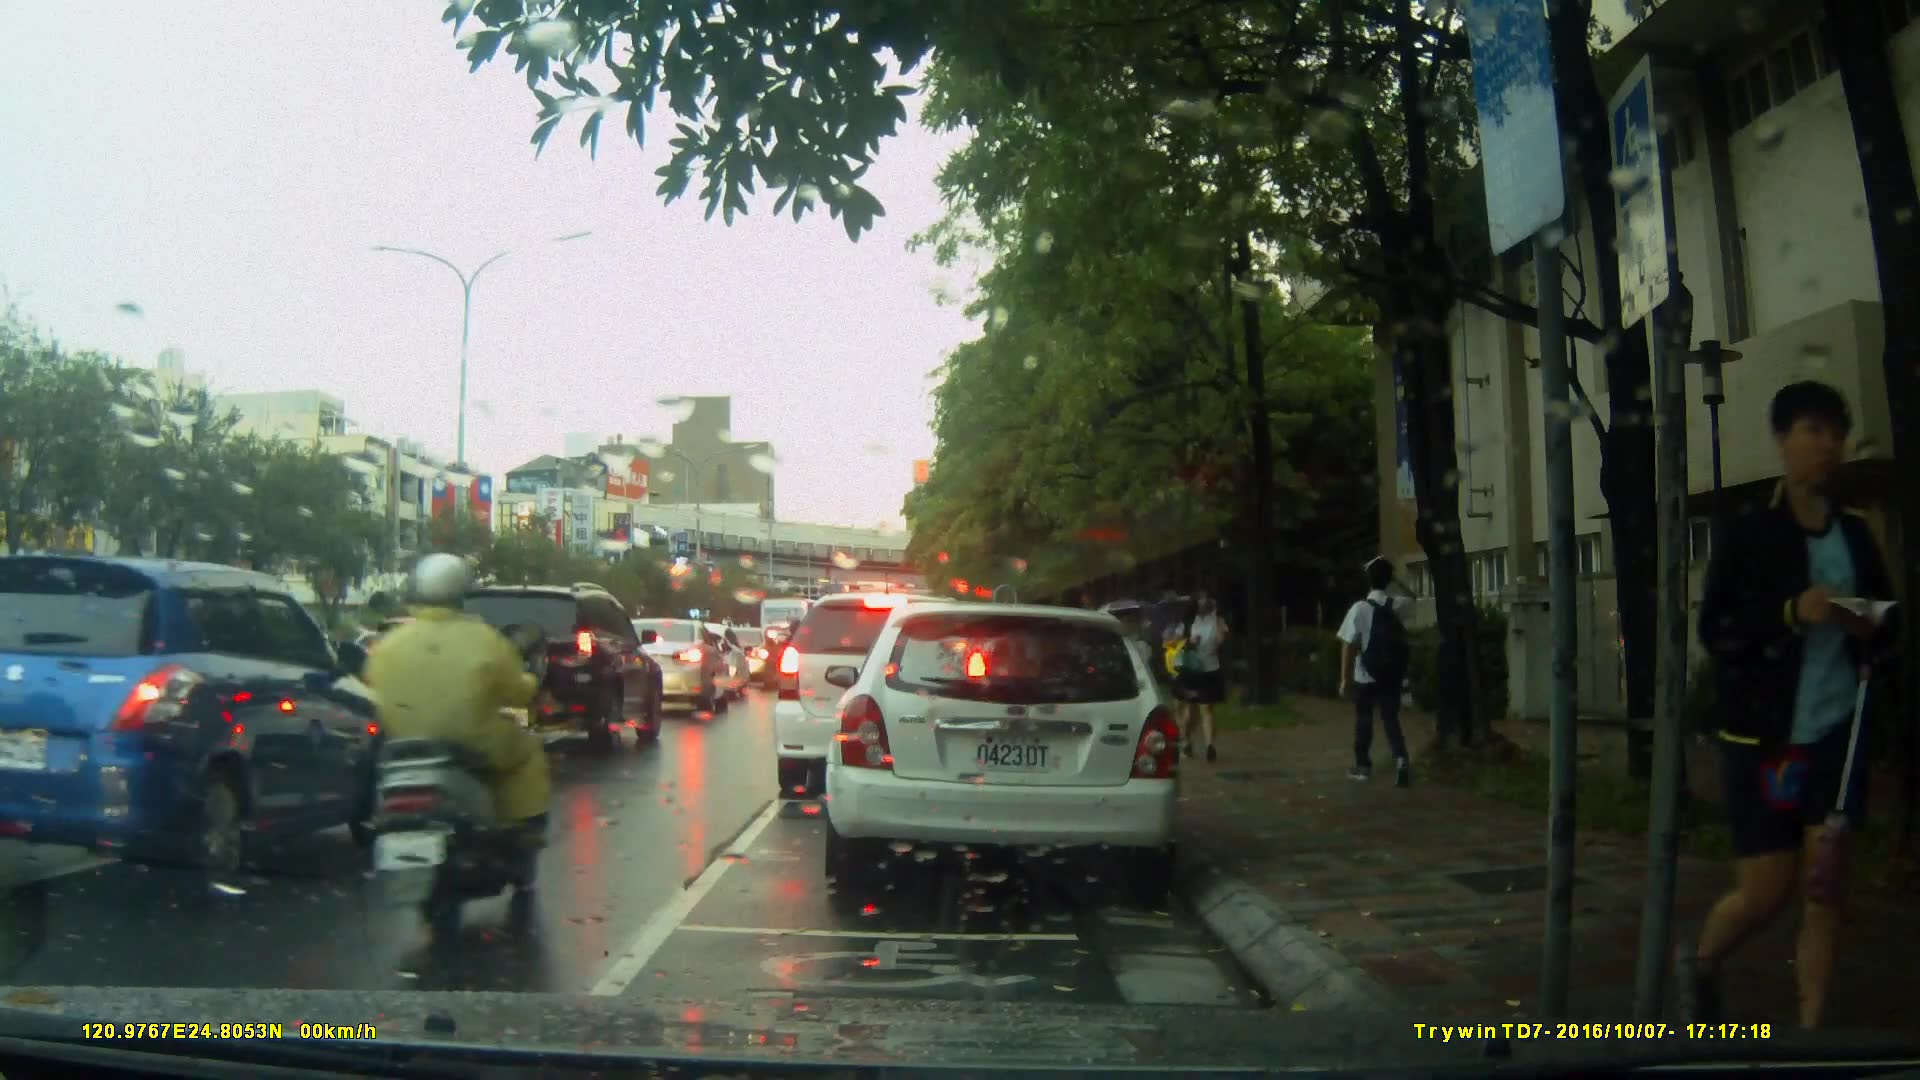pedestrian: (1717, 383, 1867, 1038), (1323, 543, 1431, 791), (1167, 569, 1231, 759), (1165, 588, 1209, 742)
rider: (357, 553, 555, 941), (782, 619, 809, 696)
vehicle: (1, 555, 416, 897), (815, 593, 1202, 904), (771, 590, 995, 802), (430, 582, 668, 759), (352, 612, 517, 717), (592, 616, 729, 721)
